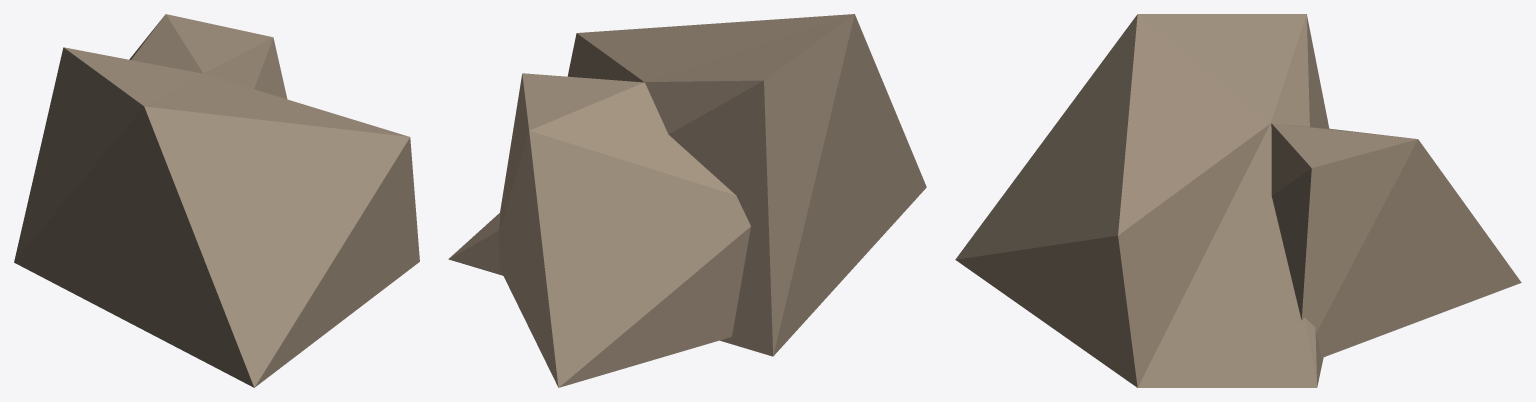
Rendered from Pedras06.fbx.
3 renders of one model, left to right at view 1: azimuth 30°, elevation 25°; view 2: azimuth 150°, elevation 25°; view 3: azimuth 270°, elevation 25°, orthographic. The views are drawn at different scales.
Parts seen in each view (by area): view 1: Cube.002; view 2: Cube.002; view 3: Cube.002.
Part boxes in pixels (x1,y1,x2,y2): Cube.002: [14, 14, 419, 387]; Cube.002: [448, 14, 926, 387]; Cube.002: [955, 14, 1521, 387].
Size of the model in its own units: 122 by 85.67 by 188.
